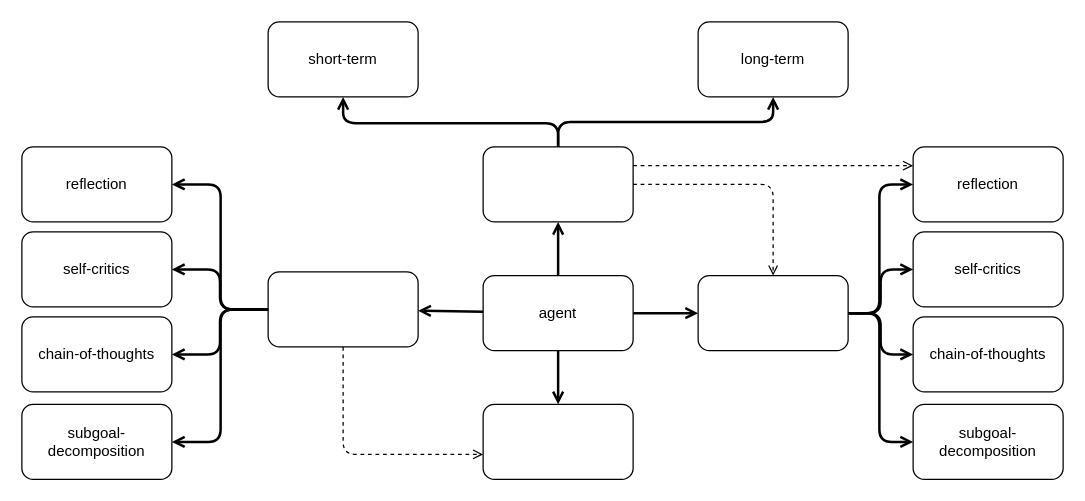
This 1085x501 diagram has some shape labels left out. Here are the shapes that lost their labels. From the top down, the box of each, then its label:
(482, 146, 633, 222): memory
(267, 271, 418, 347): tool
(697, 274, 848, 351): planning
(482, 403, 633, 479): action
